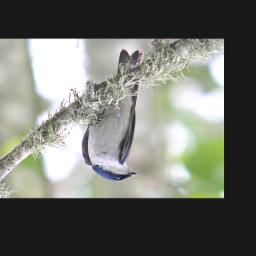Swallow: (80, 48, 146, 183)
